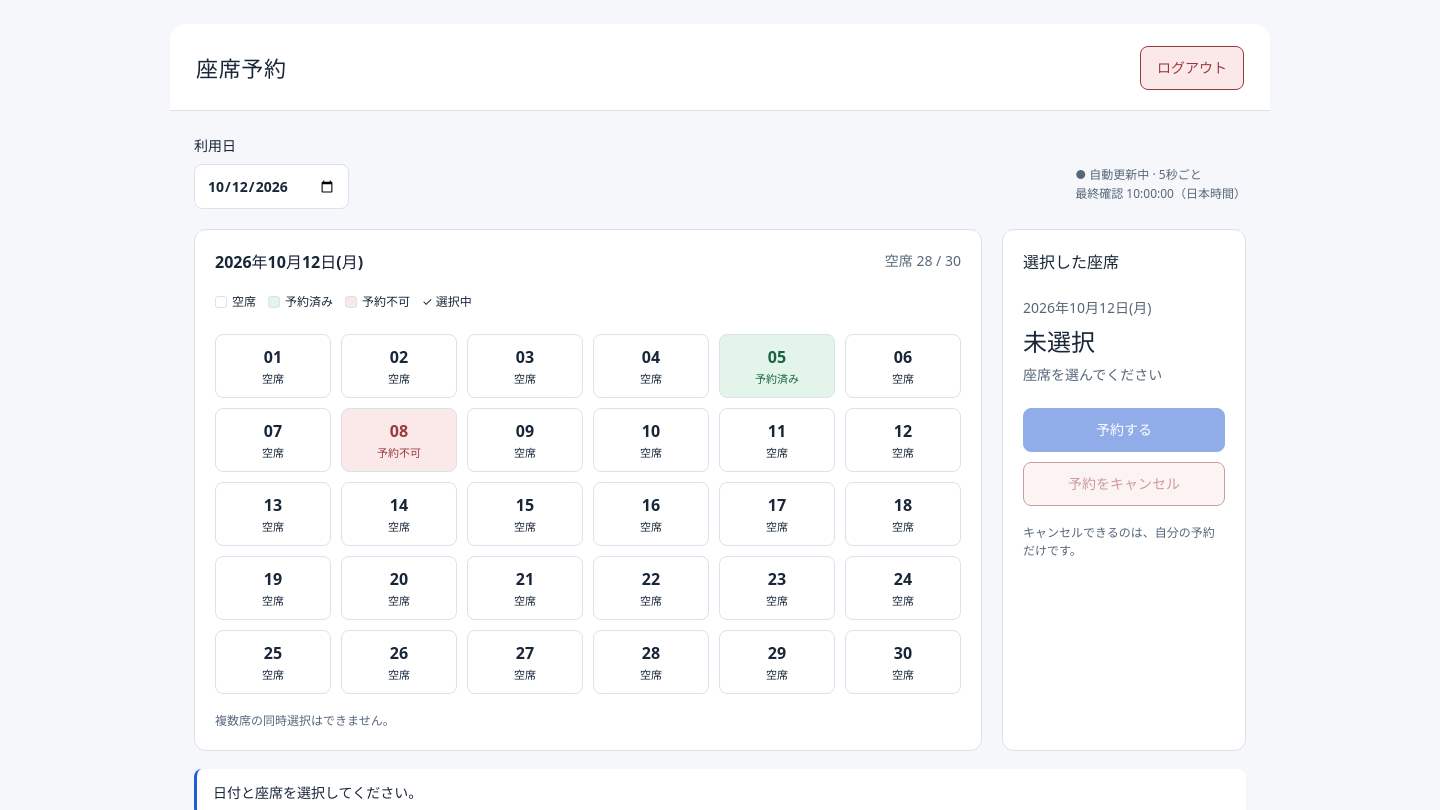
Test: マトリクス：画面と実APIクライアント（fetch境界のみ代替） › [SEAT-05] 同一席再クリックで解除
Click the button with aria-label "座席1、".
click(273, 366)  # box x1=215 y1=334 x2=331 y2=398
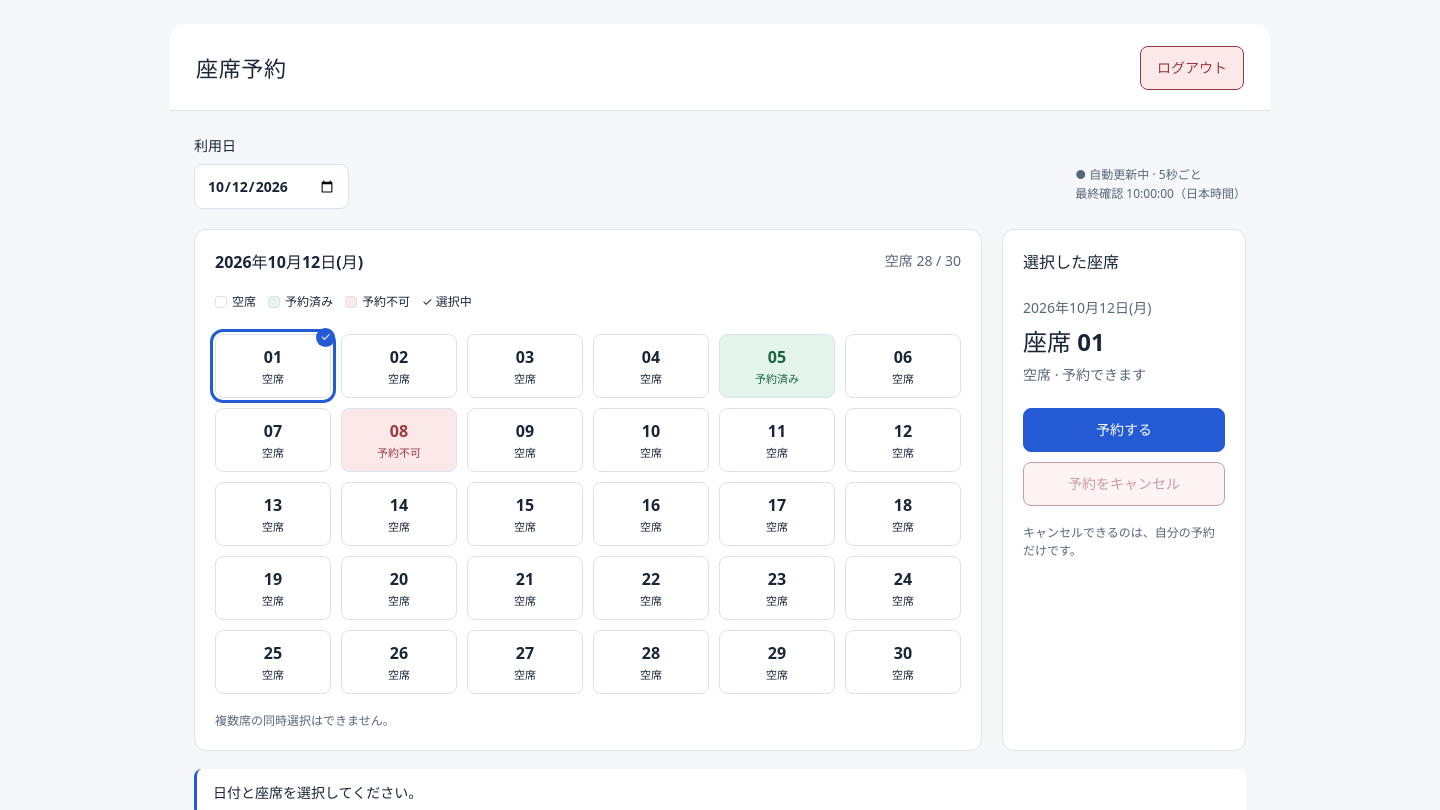
Click the button with aria-label "座席1、".
click(273, 366)  # box x1=215 y1=334 x2=331 y2=398
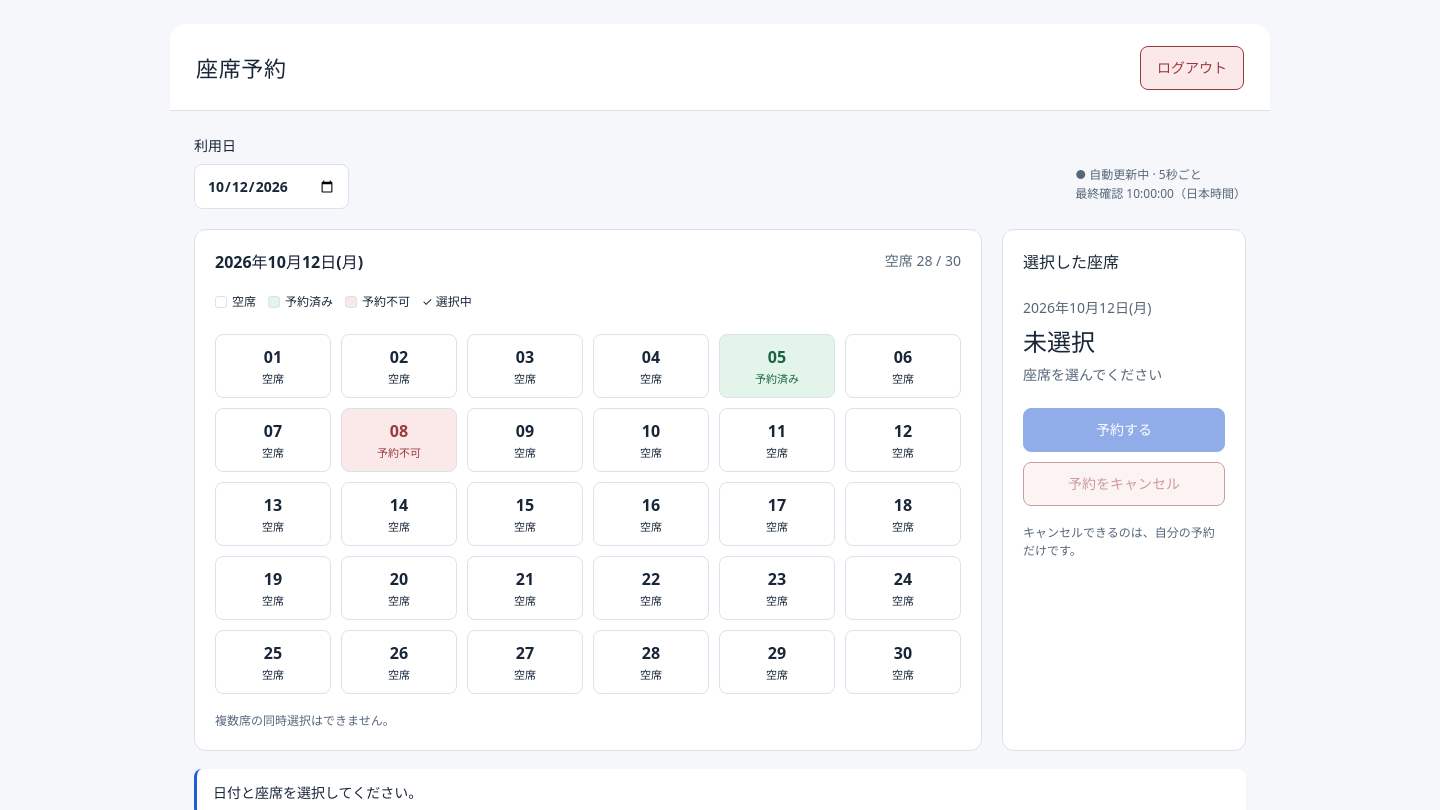
Expected: the button "予約をキャンセル" is disabled, x1=1023 y1=462 x2=1225 y2=506
Now the text "未選択" is shown, box x1=1023 y1=325 x2=1095 y2=358
Now the button "予約する" is disabled, box x1=1023 y1=408 x2=1225 y2=452
